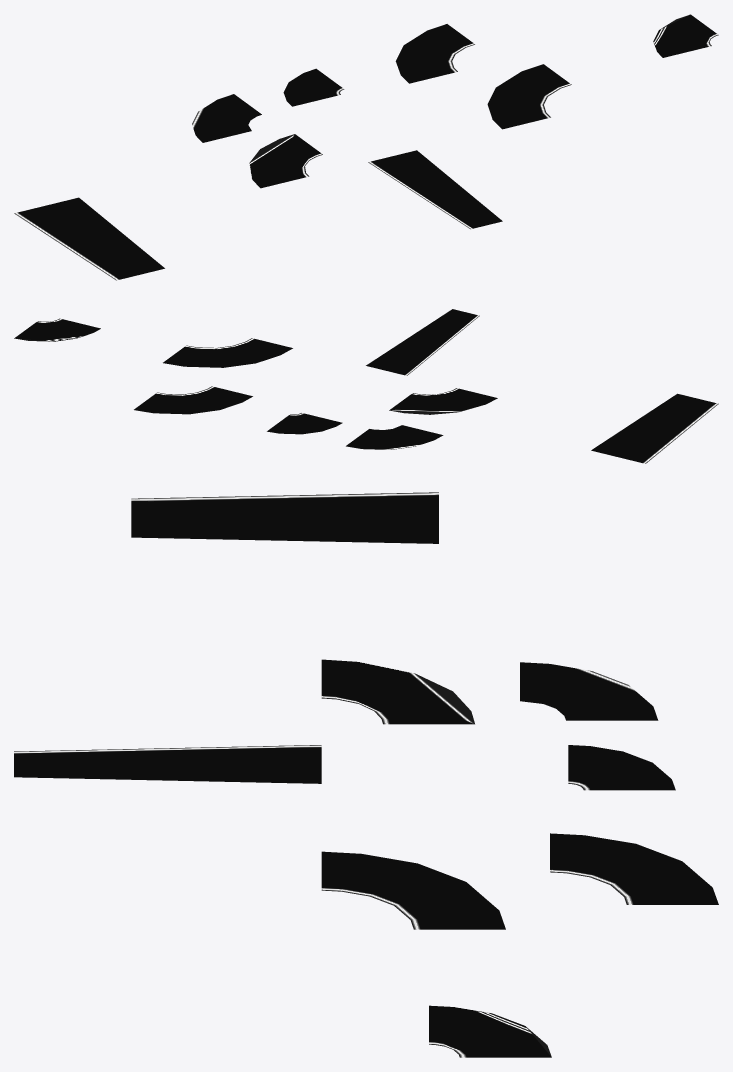
Rendered from 30W LOWPOLY.FBX.
The picture shows the model from 3 angles, top to bottom: view 1: azimuth 30°, elevation 25°; view 2: azimuth 150°, elevation 25°; view 3: azimuth 270°, elevation 25°; orthographic projection. The views are drawn at different scales.
Parts seen in each view (by area): view 1: Transition 30 40 LP, Transition 20 30 LP, 30w 60r LP, 30w 55r LP, 30w 50r LP, 30w 45r LP, 30w 40r LP, 30w 35r LP; view 2: Transition 30 40 LP, Transition 20 30 LP, 30w 60r LP, 30w 55r LP, 30w 50r LP, 30w 45r LP, 30w 40r LP, 30w 35r LP; view 3: Transition 30 40 LP, Transition 20 30 LP, 30w 60r LP, 30w 55r LP, 30w 50r LP, 30w 45r LP, 30w 40r LP, 30w 35r LP.
Part boxes in pixels (box(x1,y1,x2,y2)): Transition 30 40 LP: box(14, 197, 164, 280); Transition 20 30 LP: box(368, 150, 502, 229); 30w 60r LP: box(487, 64, 571, 129); 30w 55r LP: box(395, 24, 474, 83); 30w 50r LP: box(249, 134, 322, 188); 30w 45r LP: box(192, 94, 261, 142); 30w 40r LP: box(653, 14, 718, 57); 30w 35r LP: box(283, 68, 344, 106); Transition 30 40 LP: box(591, 393, 718, 463); Transition 20 30 LP: box(366, 309, 479, 375); 30w 60r LP: box(163, 338, 292, 367); 30w 55r LP: box(134, 386, 252, 414); 30w 50r LP: box(389, 388, 497, 414); 30w 45r LP: box(346, 425, 443, 449); 30w 40r LP: box(14, 318, 100, 341); 30w 35r LP: box(267, 413, 342, 434); Transition 30 40 LP: box(131, 492, 438, 543); Transition 20 30 LP: box(14, 745, 321, 783); 30w 60r LP: box(321, 851, 505, 929); 30w 55r LP: box(550, 833, 718, 904); 30w 50r LP: box(321, 659, 474, 724); 30w 45r LP: box(520, 662, 658, 720); 30w 40r LP: box(429, 1005, 551, 1057); 30w 35r LP: box(568, 745, 675, 790).
Size of the model in its own units: 435 by 5.64e-05 by 229.
